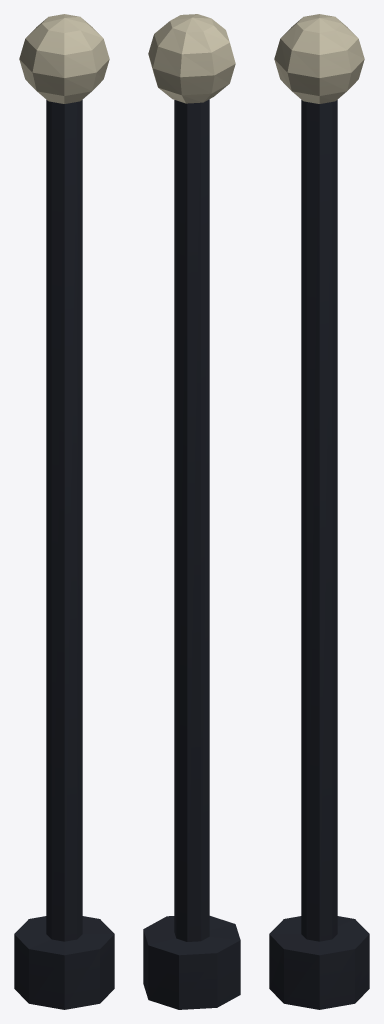
The model's file is lamp.glb.
The picture shows the model from 3 angles, left to right: view 1: azimuth 90°, elevation 25°; view 2: azimuth 210°, elevation 25°; view 3: azimuth 270°, elevation 25°; orthographic projection.
Size of the model in its own units: 0.5 by 5.32 by 0.5.
